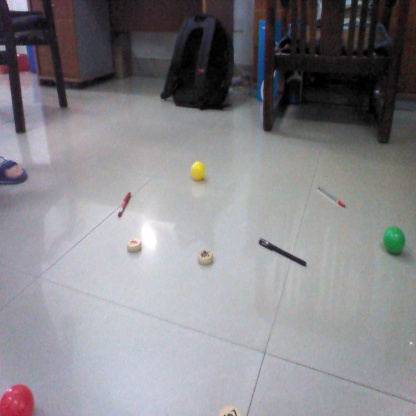ball: (1, 381, 37, 414), (382, 226, 410, 254), (190, 160, 209, 181)
chess: (126, 234, 144, 255), (196, 251, 218, 267), (217, 404, 244, 416)
pen: (254, 239, 310, 266), (316, 186, 350, 207), (118, 190, 135, 217)
